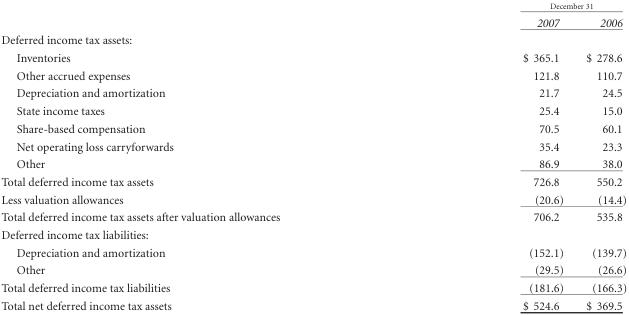table: (0, 1, 626, 311)
table column: (0, 1, 400, 311), (400, 1, 574, 311), (574, 1, 626, 311)
table column header: (0, 1, 626, 31)
table projected row header: (0, 225, 626, 243), (0, 31, 626, 48)
table row: (0, 13, 626, 31), (0, 48, 626, 66), (0, 66, 626, 84), (0, 101, 626, 119), (0, 119, 626, 137), (0, 154, 626, 172), (0, 172, 626, 190), (0, 190, 626, 208), (0, 225, 626, 243), (0, 243, 626, 261), (0, 278, 626, 296), (0, 31, 626, 48), (0, 84, 626, 101), (0, 137, 626, 154), (0, 208, 626, 225), (0, 261, 626, 278), (0, 296, 626, 311), (0, 1, 626, 13)
table spanning cell: (400, 1, 626, 13)
